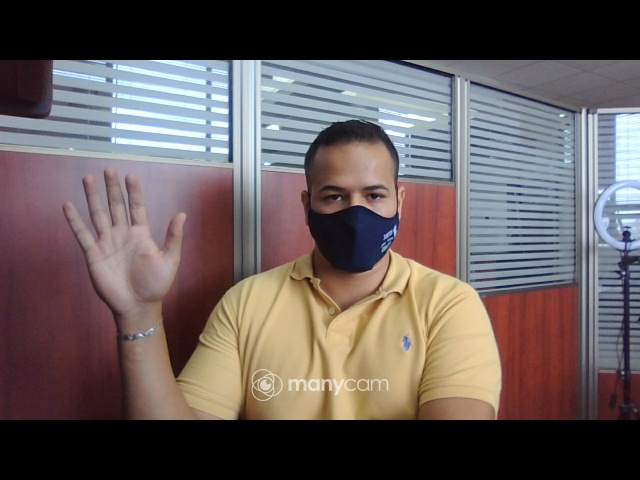Hello: (60, 165, 188, 347)
